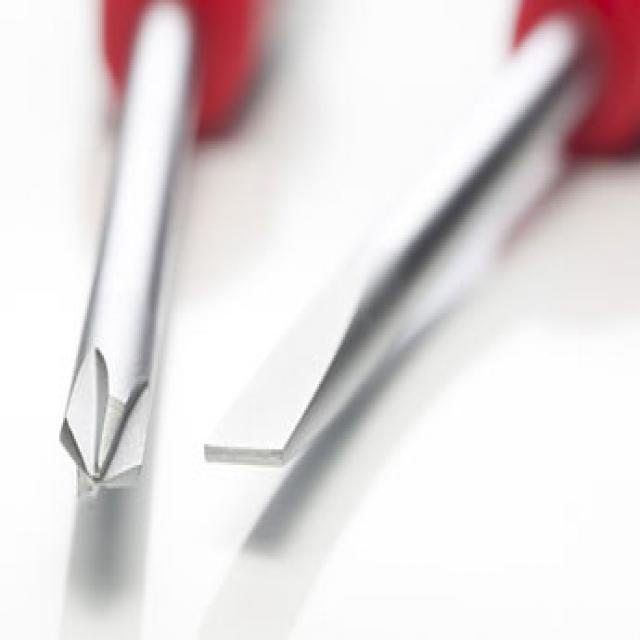screwdriver: (198, 0, 640, 486), (54, 0, 262, 512)
